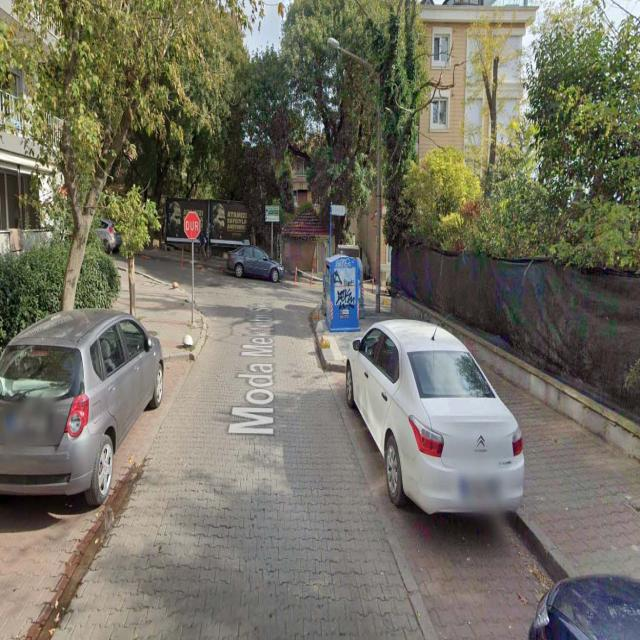dur: (184, 212, 200, 238)
